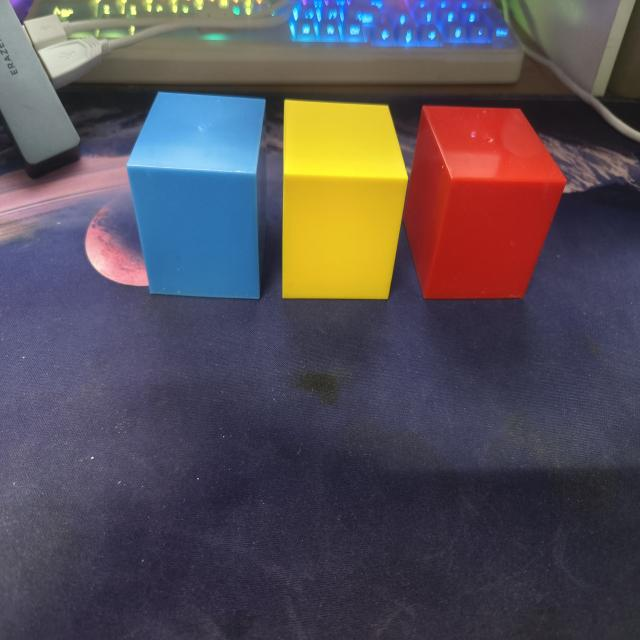blue: (125, 91, 265, 302)
red: (403, 104, 566, 303)
yellow: (255, 99, 409, 303)
